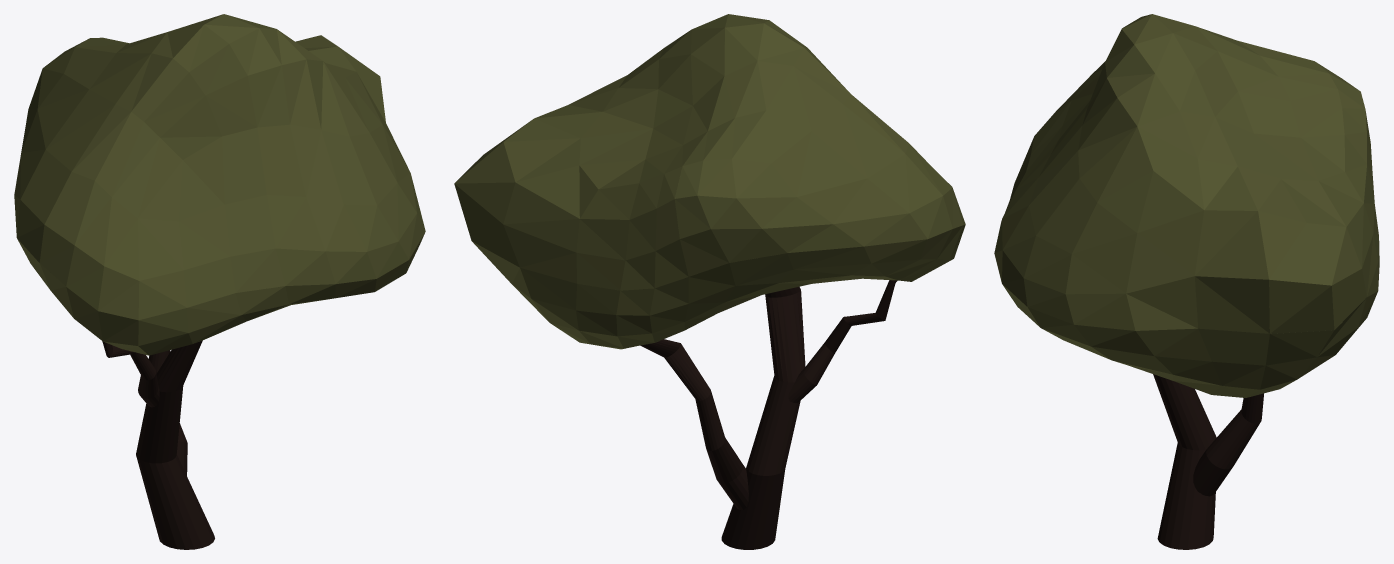
The model's file is tree1.FBX.
The picture shows the model from 3 angles, left to right: view 1: azimuth 30°, elevation 25°; view 2: azimuth 150°, elevation 25°; view 3: azimuth 270°, elevation 25°; orthographic projection. The views are drawn at different scales.
Visible parts, largest first — view 1: Object046; view 2: Object046; view 3: Object046.
Boxes of the visible parts, <box> form: Object046: <box>14,14,425,549</box>; Object046: <box>454,14,965,549</box>; Object046: <box>994,14,1379,549</box>.
Bounding box in the file's own units: 11.18 × 13.51 × 9.
